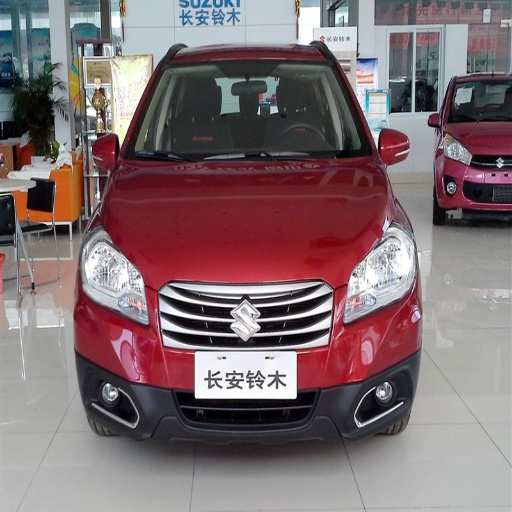front_bumper: (73, 282, 419, 434)
front_right_light: (81, 227, 150, 325)
hood: (102, 155, 389, 286)
